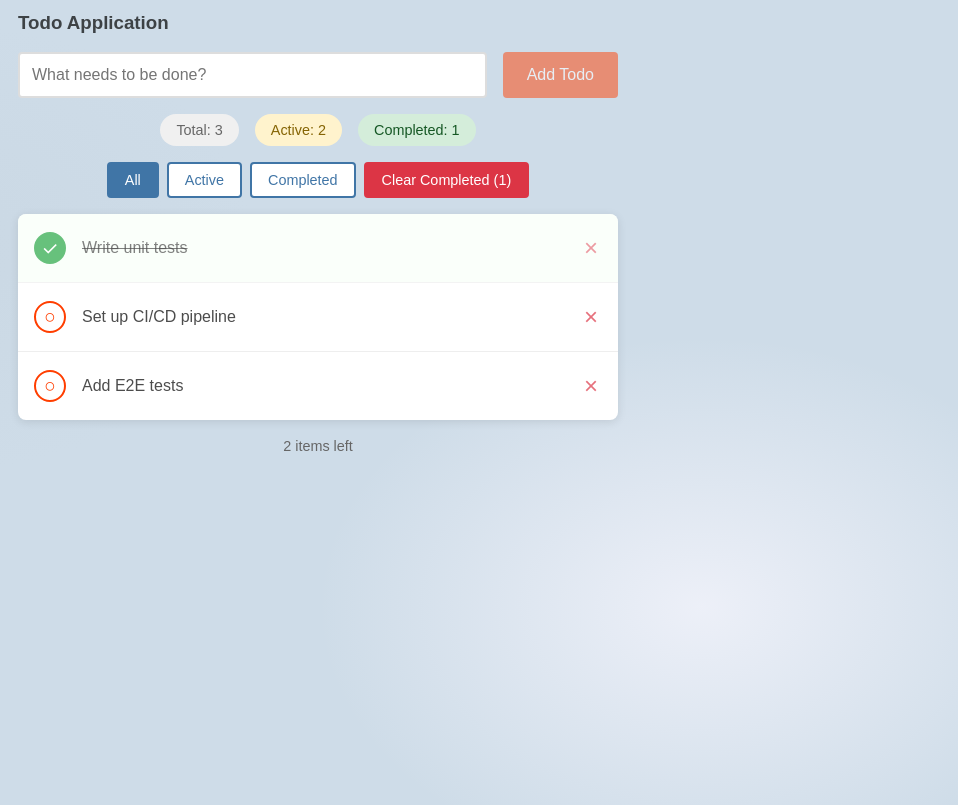
it: TodoApp Component › deletes todo when delete button is clicked
The image size is (958, 805).
Step 1. Click the button with test id "todo-delete" in the row of "Write unit tests" → [591, 248], box x1=580 y1=230 x2=602 y2=266
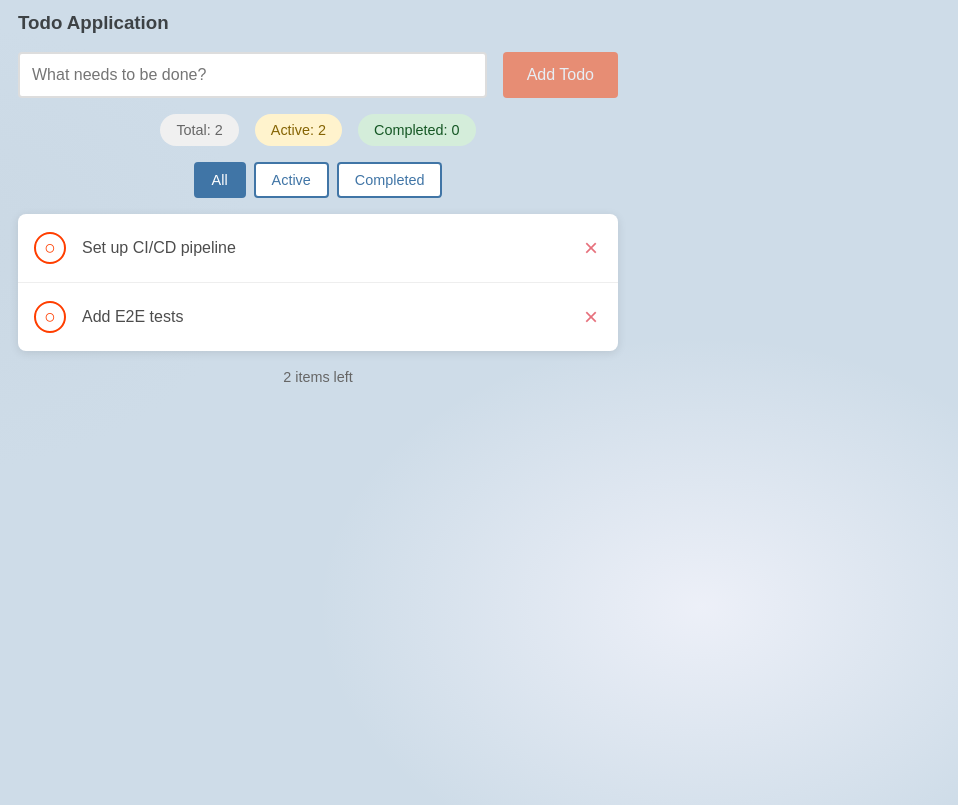
Result: the text "Total: 2" is shown at x1=160 y1=114 x2=239 y2=146
